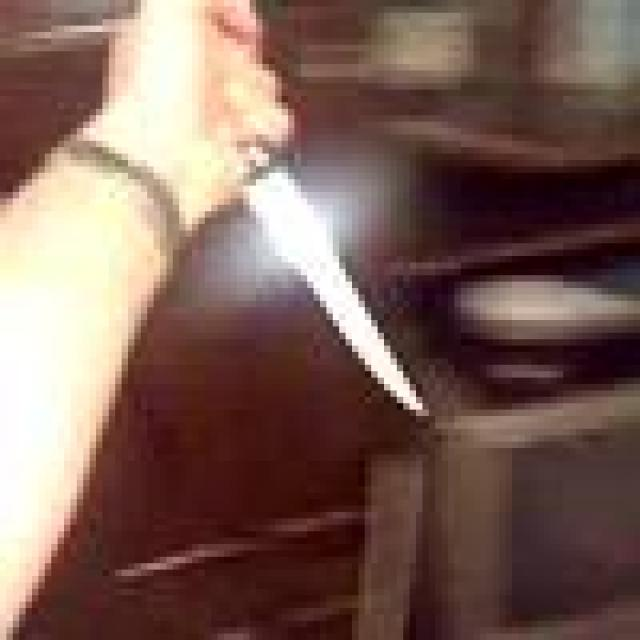knife: (247, 155, 433, 415)
